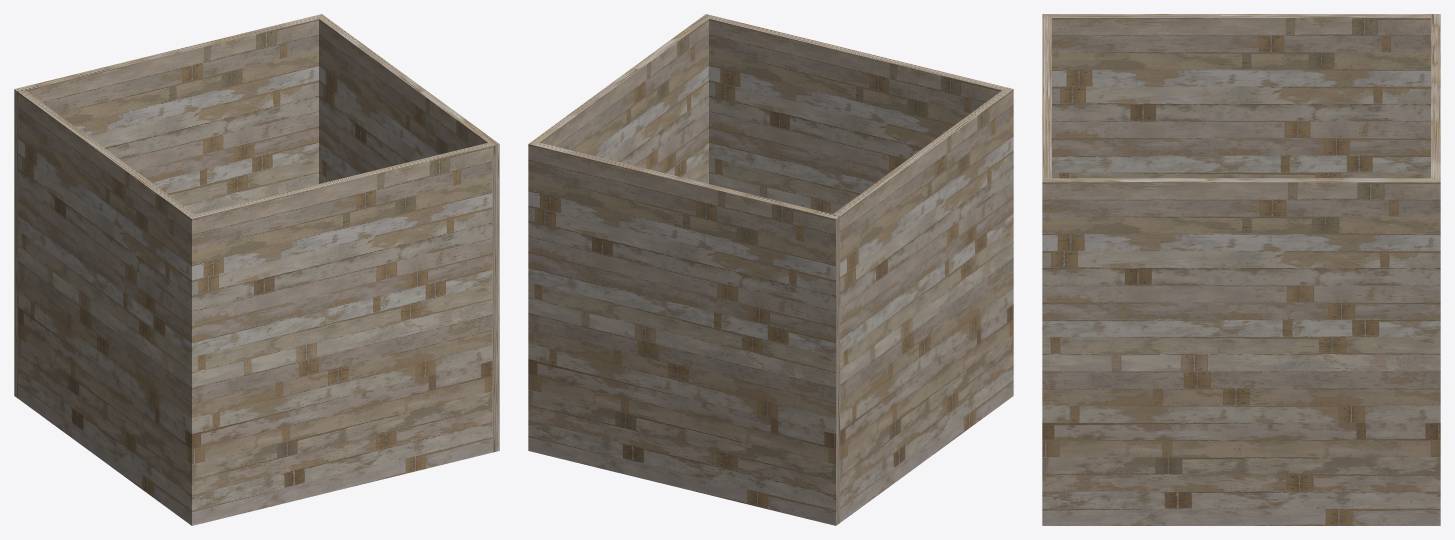
Rendered from Room.fbx.
The picture shows the model from 3 angles, left to right: view 1: azimuth 30°, elevation 25°; view 2: azimuth 150°, elevation 25°; view 3: azimuth 270°, elevation 25°; orthographic projection. The views are drawn at different scales.
Visible parts, largest first — view 1: Wall_B, Wall_F; view 2: Wall_F, Wall_B; view 3: Wall_F, Wall_B.
Boxes of the visible parts, x1,y1,x2,y2 form: Wall_B: (18, 90, 492, 525); Wall_F: (14, 14, 499, 452); Wall_F: (528, 14, 840, 525); Wall_B: (709, 16, 1013, 522); Wall_F: (1042, 14, 1440, 525); Wall_B: (1042, 14, 1430, 178).
Bounding box in the file's own units: 1050 × 1000 × 1050.
